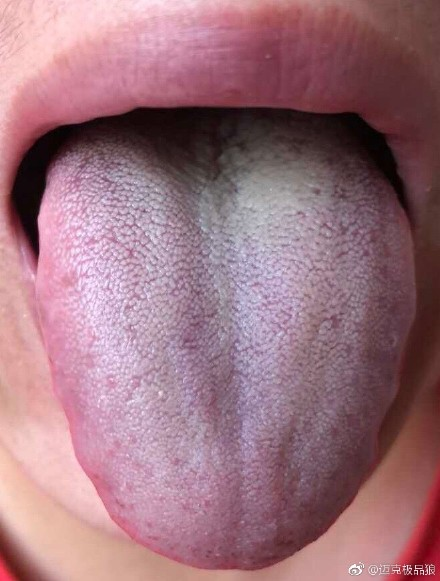baitaishe: (36, 115, 416, 569)
hongdianshe: (308, 184, 323, 199)
